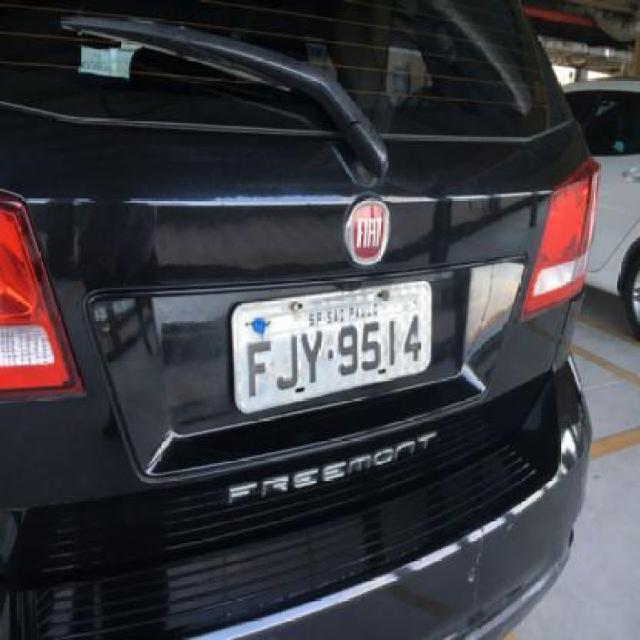old_plate: (225, 277, 450, 422)
